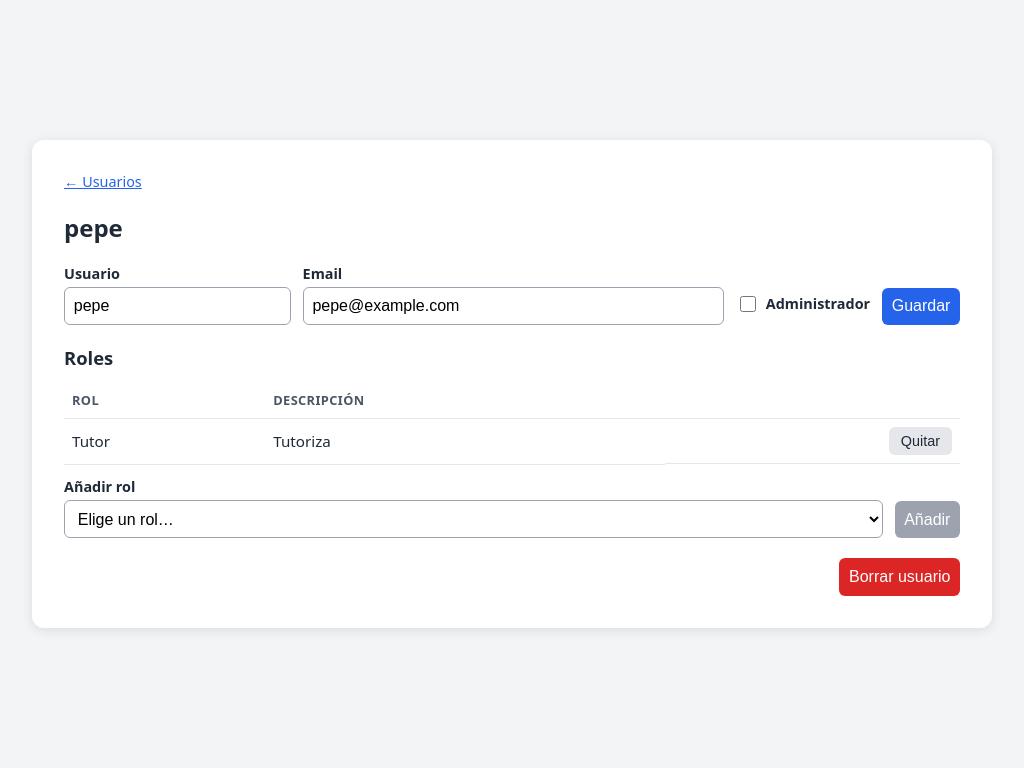
UsuarioDetalle › un nombre repetido muestra el 409
Step 1. Click the button "Guardar" → (921, 306), box [882,288,960,325]
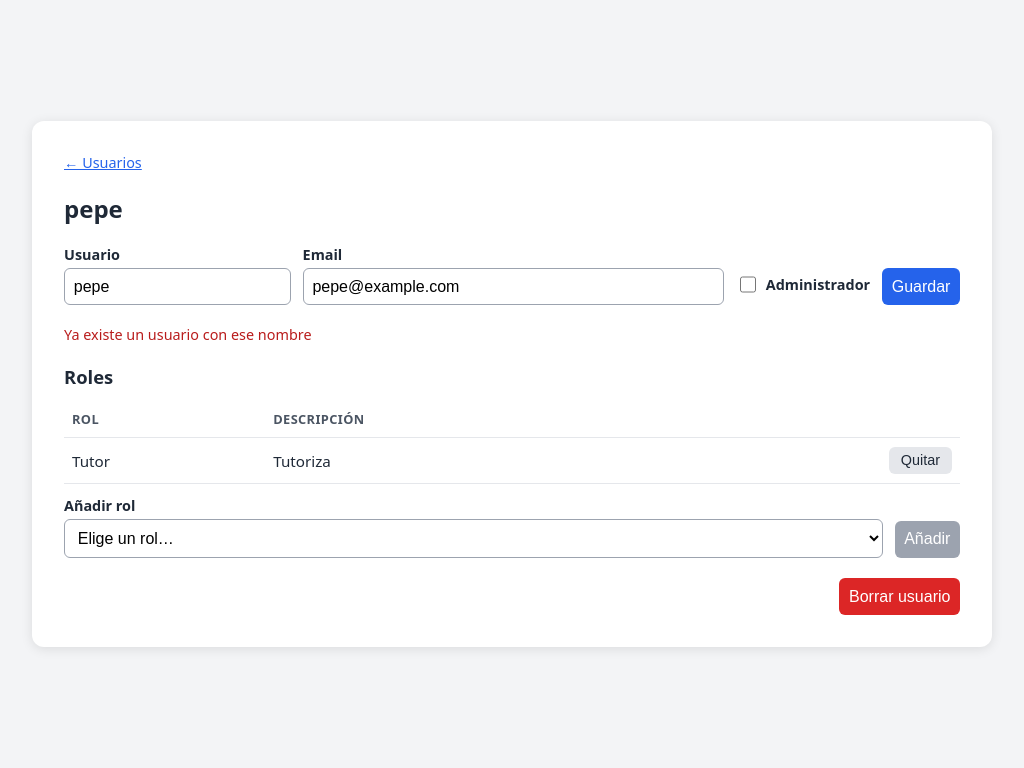
Result: the message reads "Ya existe un usuario con ese nombre" at [64,326,312,344]
